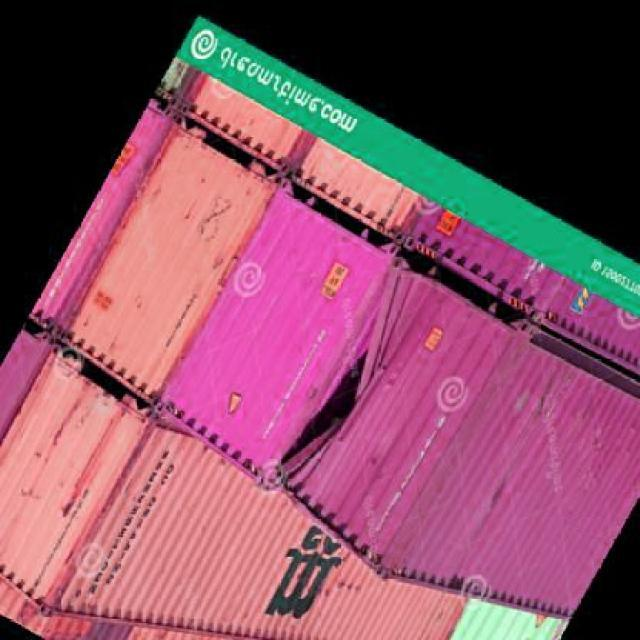hole: (258, 296, 403, 528)
